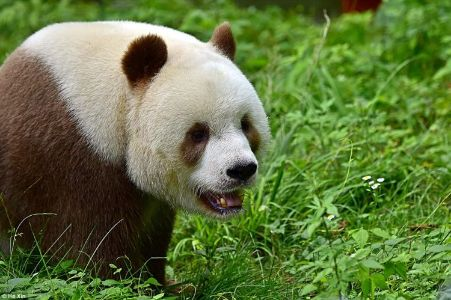bear: (7, 14, 274, 286)
